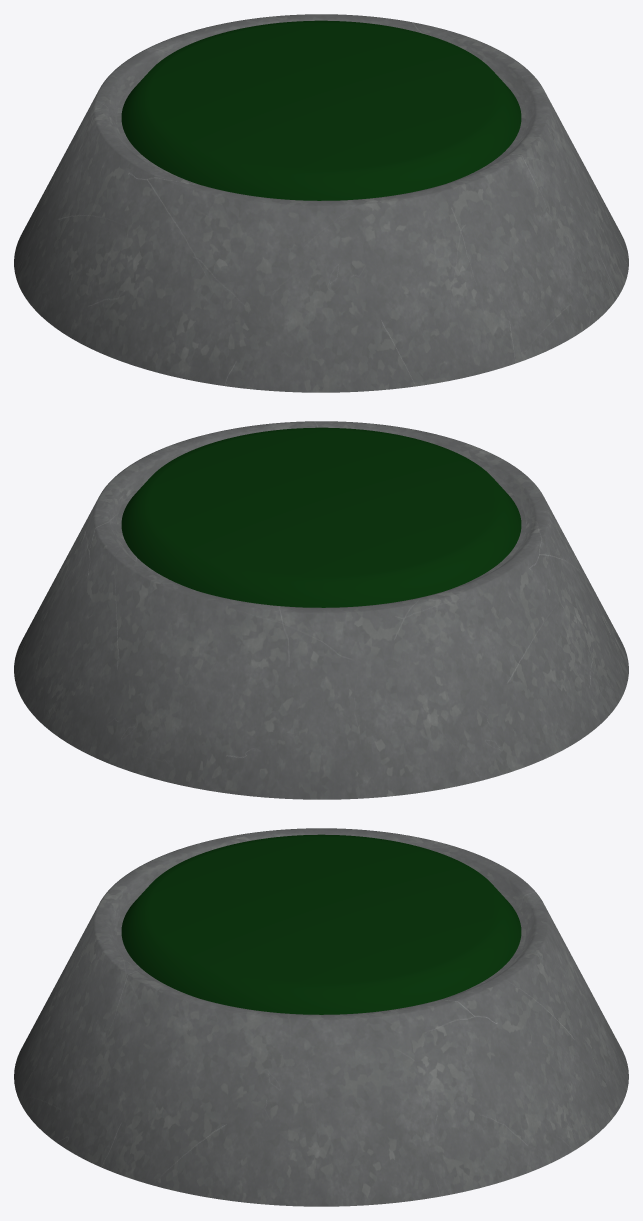
The model's file is GemButton.glb.
3 renders of one model, top to bottom at view 1: azimuth 30°, elevation 25°; view 2: azimuth 150°, elevation 25°; view 3: azimuth 270°, elevation 25°, orthographic.
Parts seen in each view (by area): view 1: Circle; view 2: Circle; view 3: Circle.
Part boxes in pixels (left/top/right/bottom): Circle: left=14, top=14, right=628, bottom=392; Circle: left=14, top=421, right=628, bottom=799; Circle: left=14, top=828, right=628, bottom=1206.
Bounding box in the file's own units: 10.13 × 3.03 × 10.13.
2 materials, 1 textured.
